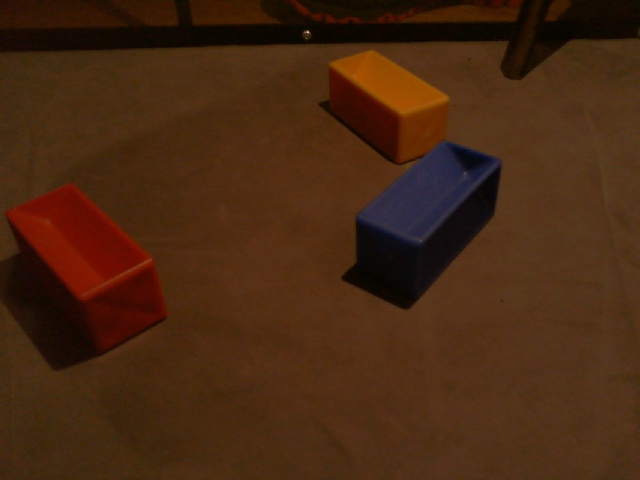BlueSample: (355, 139, 503, 301)
RedSample: (2, 178, 170, 355)
YellowSample: (324, 48, 451, 166)
